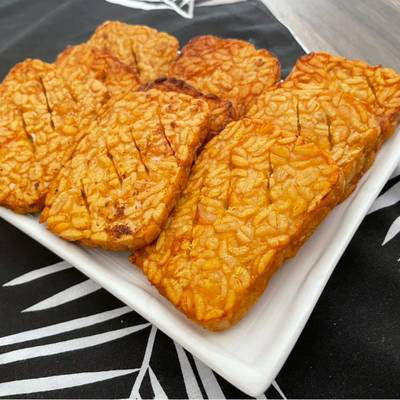Tempe: (180, 100, 372, 292), (35, 86, 207, 258), (1, 71, 121, 193)
